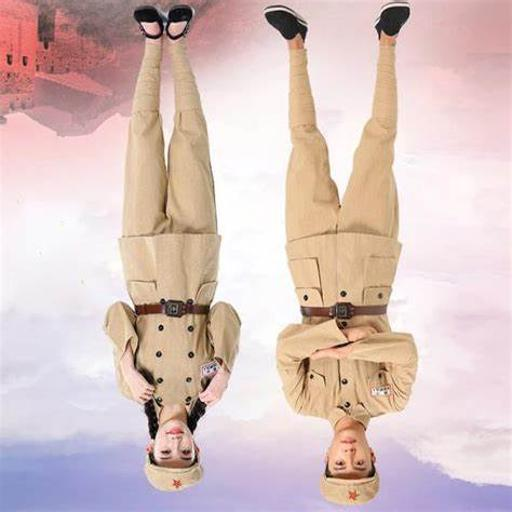north army: (90, 5, 256, 502), (259, 4, 418, 509)
